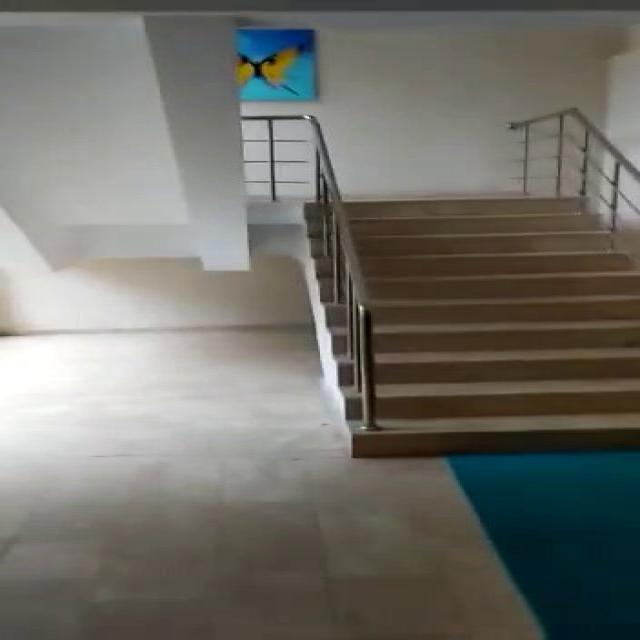upstair: (344, 160, 639, 445)
